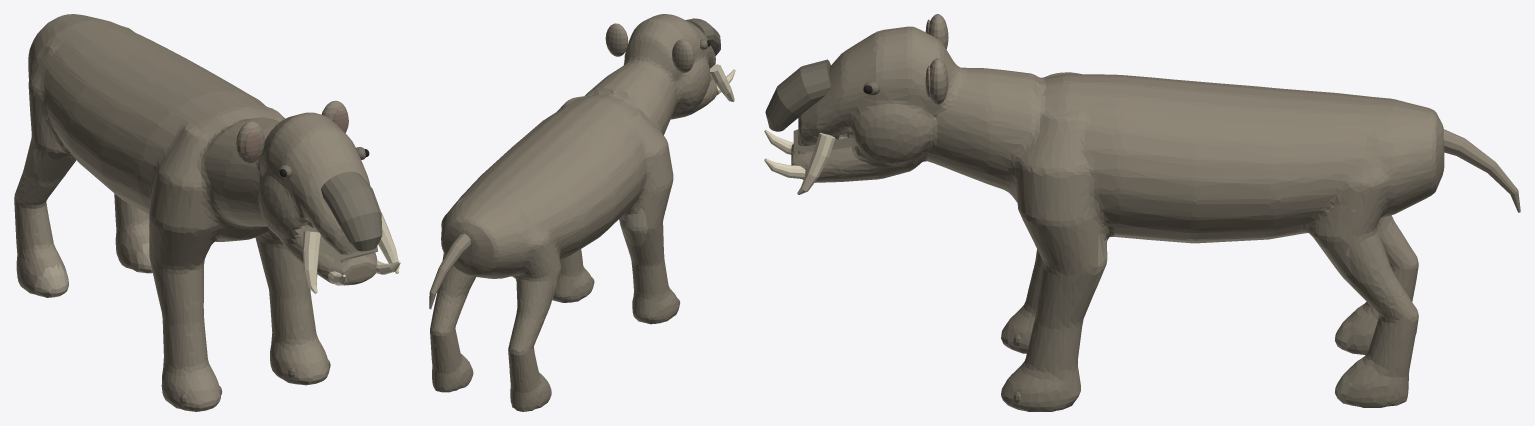
The picture shows the model from 3 angles, left to right: view 1: azimuth 30°, elevation 25°; view 2: azimuth 150°, elevation 25°; view 3: azimuth 270°, elevation 25°; orthographic projection. The views are drawn at different scales.
Visible parts, largest first — view 1: Continuous_original_body_surface, Inferred_short_mobile_nose_lip, Upper_canine_L, Inferred_ear_L, Closed_mouth_seam, Upper_canine_R, Ear_concha_L; view 2: Continuous_original_body_surface, Inferred_tail, Inferred_ear_L, Inferred_ear_R, Inferred_short_mobile_nose_lip, Upper_canine_L; view 3: Continuous_original_body_surface, Inferred_short_mobile_nose_lip, Inferred_tail, Upper_canine_R, Inferred_ear_R.
Boxes of the visible parts, left/top/right/bottom form: Continuous_original_body_surface: left=14, top=14, right=377, bottom=411; Inferred_short_mobile_nose_lip: left=321, top=171, right=382, bottom=251; Upper_canine_L: left=302, top=231, right=320, bottom=293; Inferred_ear_L: left=236, top=121, right=264, bottom=163; Closed_mouth_seam: left=295, top=226, right=377, bottom=260; Upper_canine_R: left=378, top=212, right=399, bottom=273; Ear_concha_L: left=244, top=131, right=260, bottom=158; Continuous_original_body_surface: left=430, top=14, right=717, bottom=411; Inferred_tail: left=429, top=233, right=470, bottom=309; Inferred_ear_L: left=672, top=39, right=694, bottom=72; Inferred_ear_R: left=605, top=23, right=628, bottom=56; Inferred_short_mobile_nose_lip: left=685, top=18, right=720, bottom=55; Upper_canine_L: left=710, top=64, right=734, bottom=101; Continuous_original_body_surface: left=791, top=26, right=1444, bottom=411; Inferred_short_mobile_nose_lip: left=765, top=59, right=831, bottom=131; Inferred_tail: left=1443, top=129, right=1520, bottom=212; Upper_canine_R: left=797, top=132, right=835, bottom=194; Inferred_ear_R: left=929, top=58, right=948, bottom=104.
Size of the model in its own units: 0.8618 by 1.61 by 3.23.
